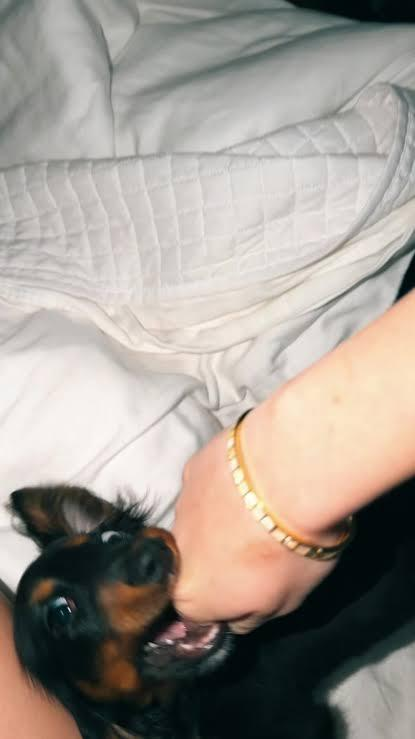puppy-dog: (3, 478, 415, 739)
